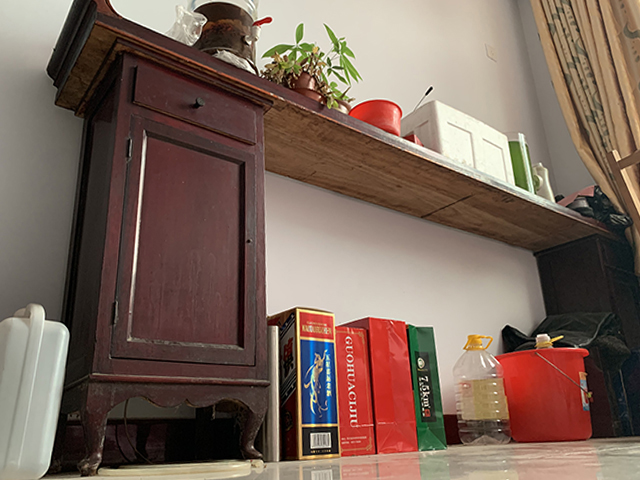cabinet: (44, 1, 271, 480)
